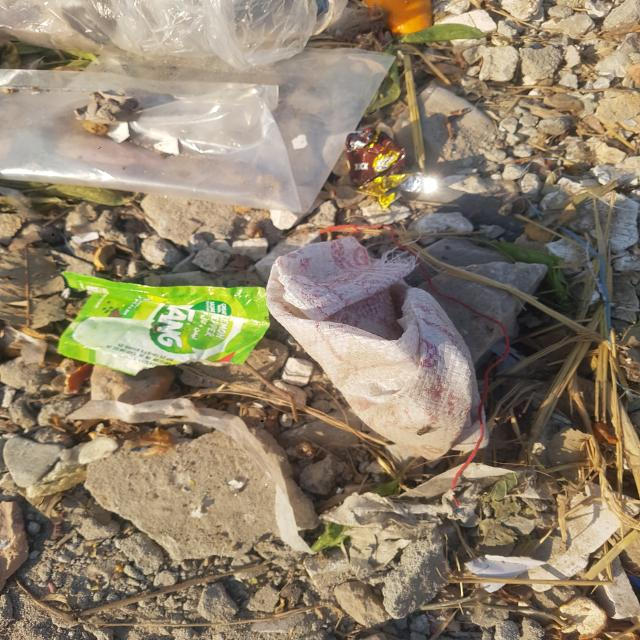electronic: (56, 270, 270, 376), (344, 126, 406, 188)
general: (0, 38, 412, 214), (264, 235, 482, 462), (0, 0, 335, 70)
